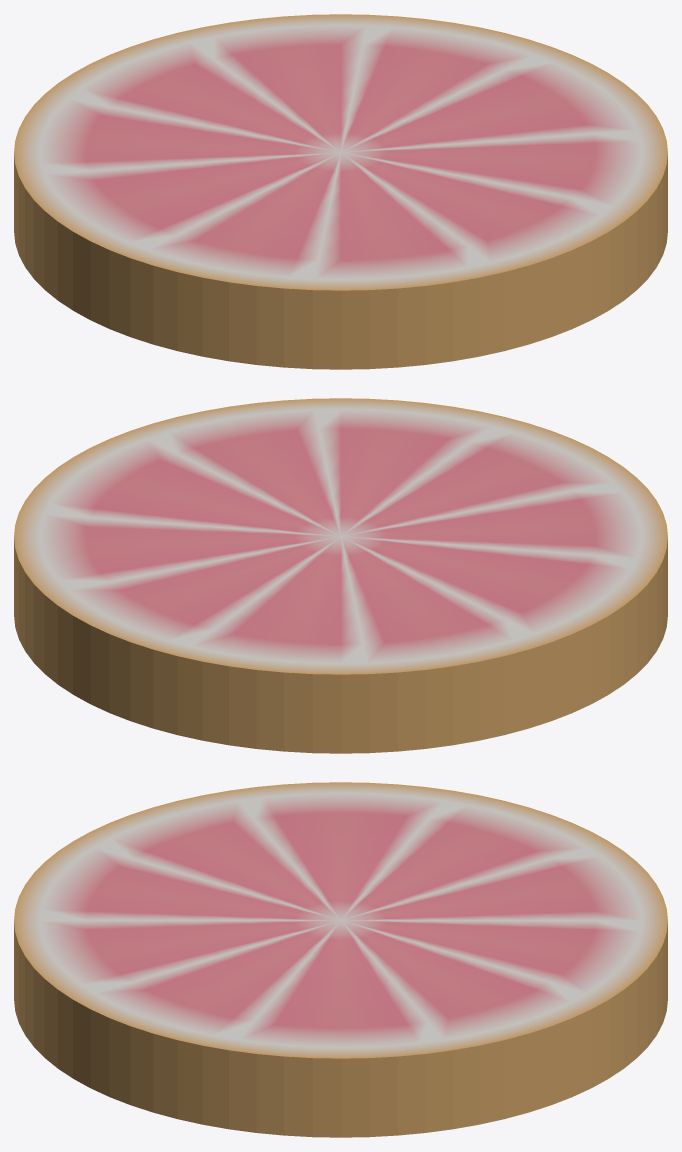
Rendered from Grapefruit_Cut.glb.
3 views of the same model, one above another, from view 1: azimuth 30°, elevation 25°; view 2: azimuth 150°, elevation 25°; view 3: azimuth 270°, elevation 25° (orthographic).
Parts seen in each view (by area): view 1: GF_slice; view 2: GF_slice; view 3: GF_slice.
Boxes of the visible parts, x1,y1,x2,y2 form: GF_slice: (14,14,667,369); GF_slice: (14,398,667,753); GF_slice: (14,782,667,1137).
Bounding box in the file's own units: 0.6 × 0.08 × 0.6.
